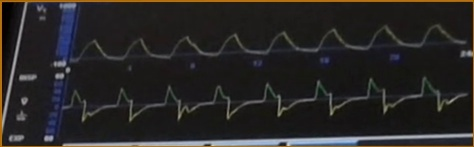Premature_cycling Flow: (66, 74, 466, 128)
Premature_cycling Volume: (76, 15, 467, 63)
